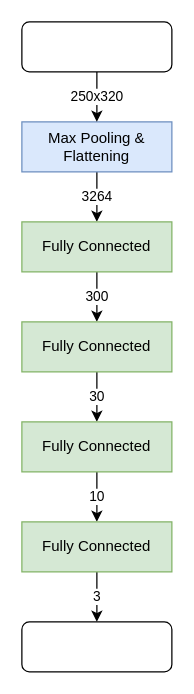
The diagram is 194 pixels wide and 694 high, and some of its shapes have lost their labels. The centre of each missing label's shape, as x and y in pixels:
"Input: Segmented Road Map Image" belongs at point 96,46.
"Output: Class Scores" belongs at point 96,646.
